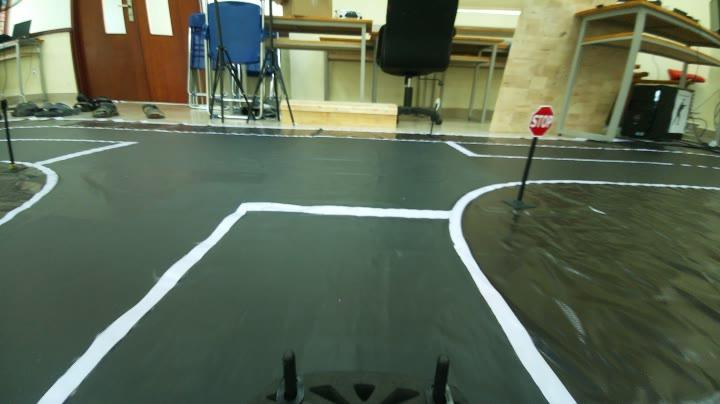stop: (524, 100, 566, 142)
